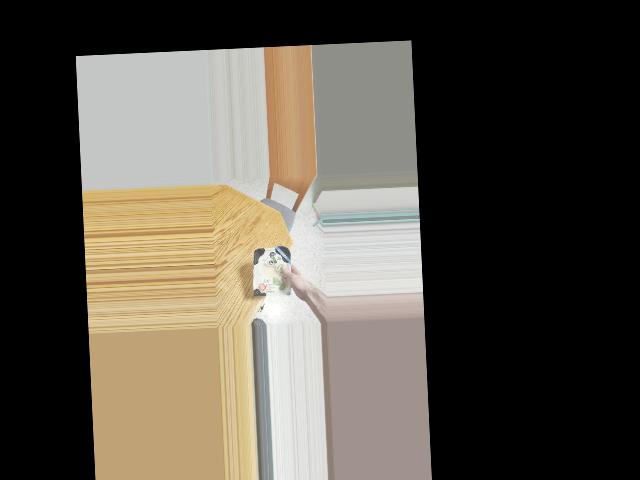cheese: (251, 234, 294, 307)
